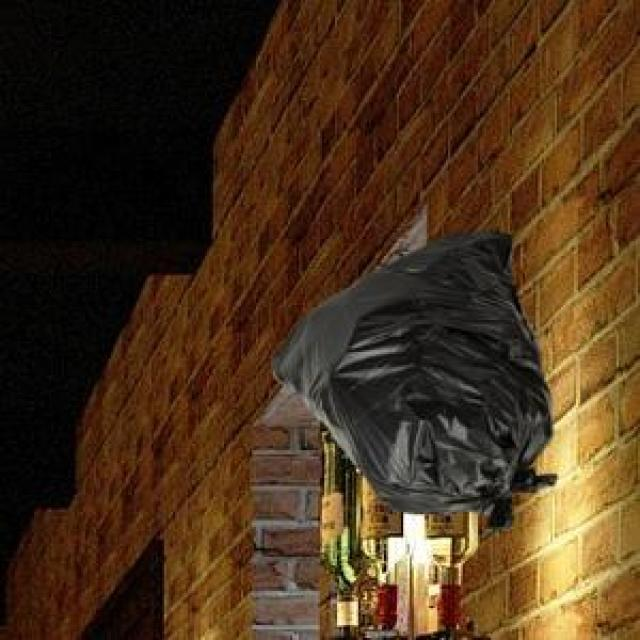miscellaneous trash: (269, 224, 553, 529)
